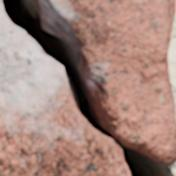broken_brick: (0, 2, 129, 175), (50, 0, 175, 166)
crack: (0, 0, 173, 175)
